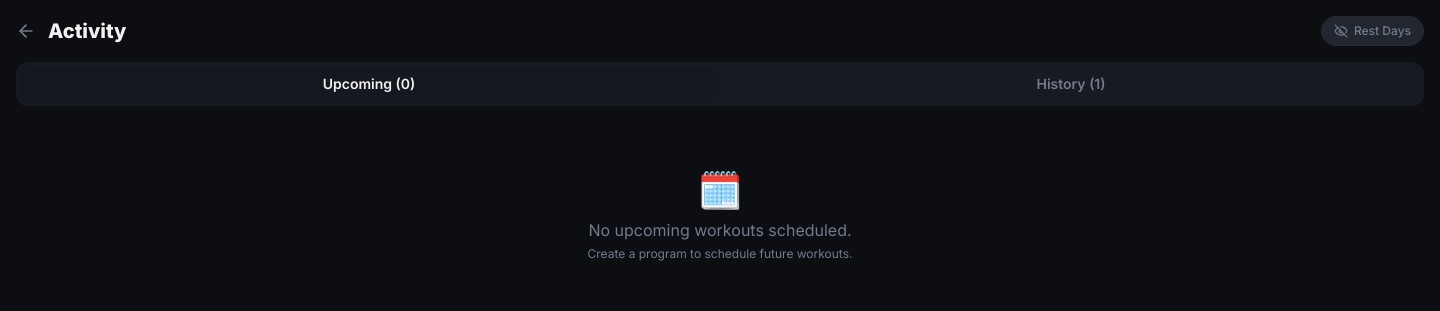
Activity's Upcoming list › leaves the History tab alone
This screenshot has width=1440, height=311.
expect the button "History (1)" is shown: met, box [722, 66, 1420, 102]
What coordinates should you click on to do the following:
click the button "Rest Days"
I would click on:
 (1372, 31)
Its box is [1321, 16, 1424, 46].
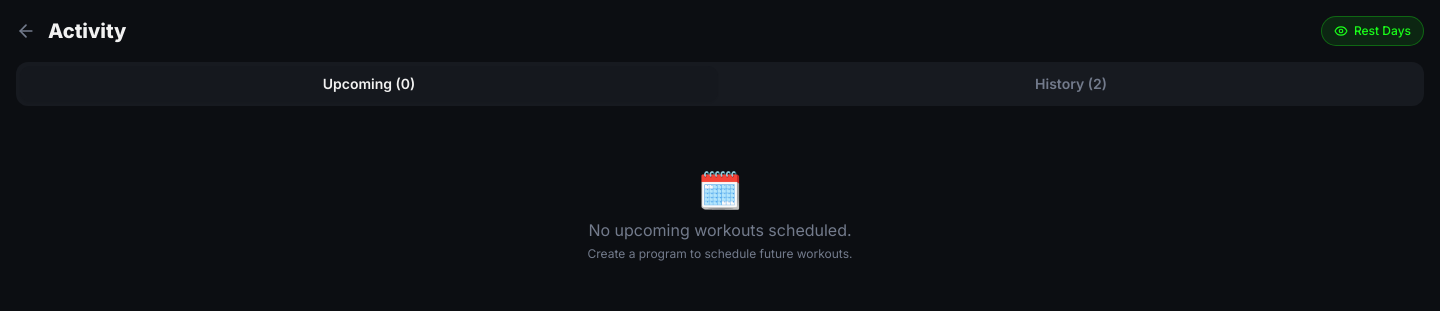
expect the button "History (2)" is shown: met
What coordinates should you click on to do the following:
click the button "History (2)"
I would click on:
 (1071, 84)
Its box is [722, 66, 1420, 102].
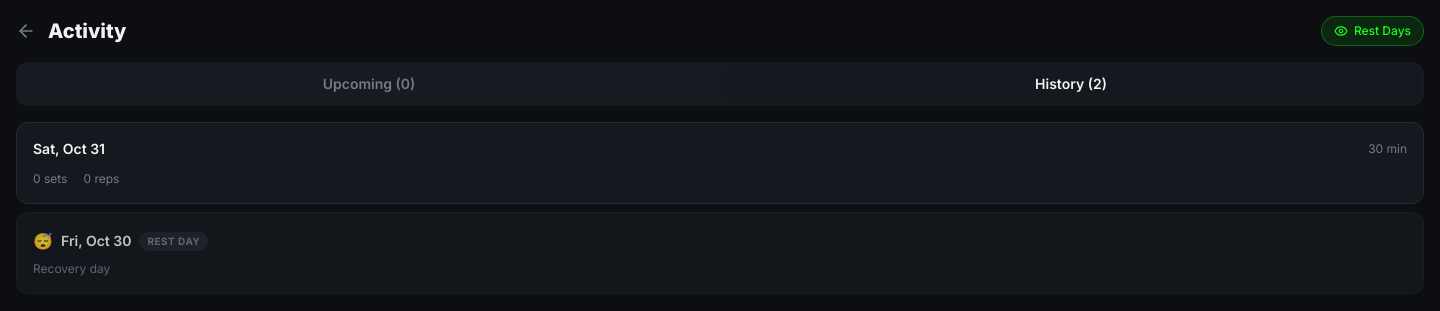
expect the text "Rest Day" is shown: met, box [139, 232, 208, 250]
